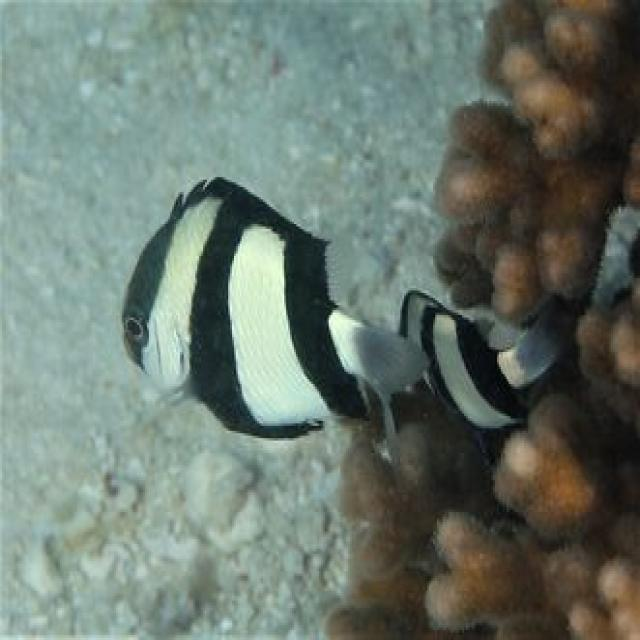ThreeStripedDamselfish: (120, 177, 425, 441)
